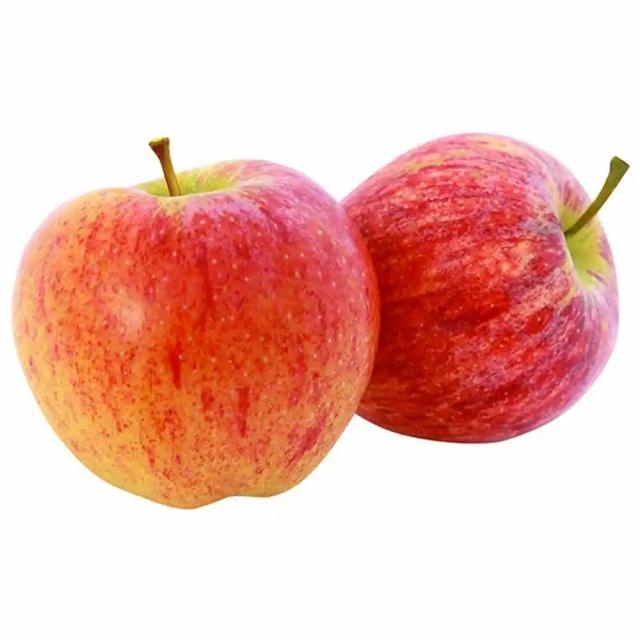Apple: (11, 140, 379, 513), (340, 132, 628, 447)
